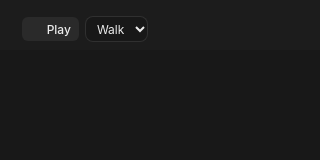
Test: loads once on screen and stays still until the person plays the preview
Later steps or results of the test are not shown.
Click the button "Play" at (50, 29), box left=22, top=17, right=79, bottom=41
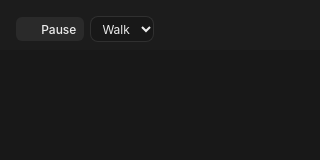
Check: the button "Pause" has attribute aria-label="Pause animation", box left=16, top=17, right=84, bottom=41
